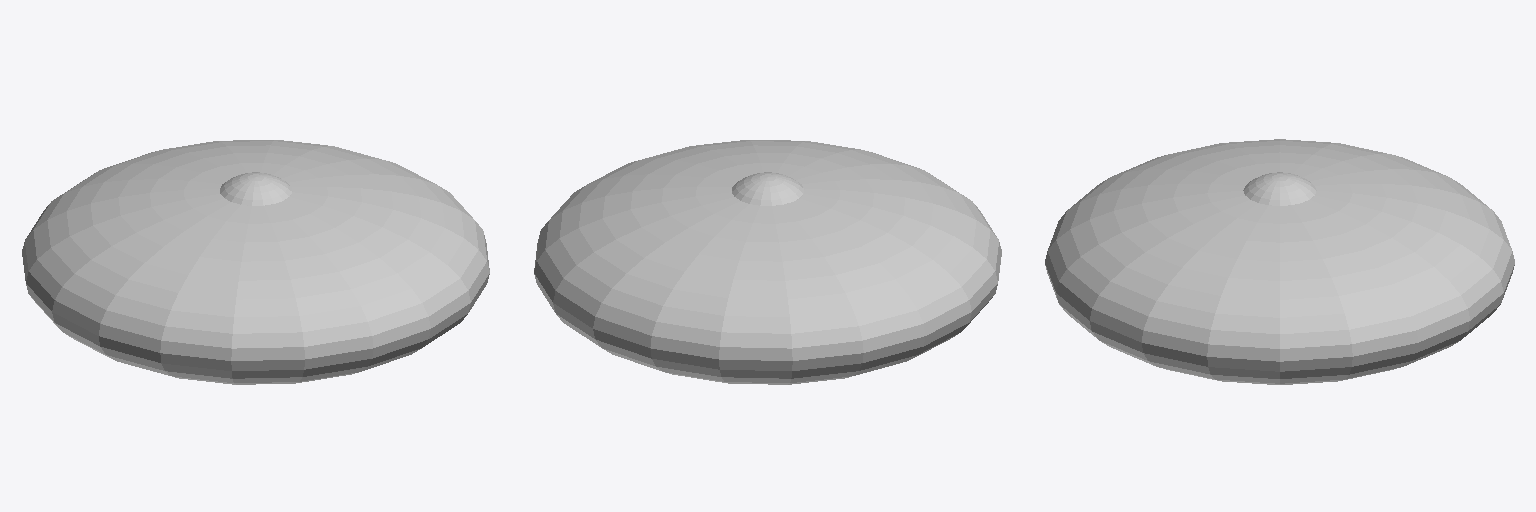
File: speakerInHead.obj
3 views of the same model, side by side, from view 1: azimuth 30°, elevation 25°; view 2: azimuth 150°, elevation 25°; view 3: azimuth 270°, elevation 25° (orthographic).
Visible parts, largest first — view 1: speakerMainMesh, speakerMainMesh speakerNubbin; view 2: speakerMainMesh, speakerMainMesh speakerNubbin; view 3: speakerMainMesh, speakerMainMesh speakerNubbin.
Boxes of the visible parts, <box> form: speakerMainMesh: <box>22,140,489,384</box>; speakerMainMesh speakerNubbin: <box>220,172,291,205</box>; speakerMainMesh: <box>534,140,1001,384</box>; speakerMainMesh speakerNubbin: <box>732,172,803,205</box>; speakerMainMesh: <box>1045,139,1514,384</box>; speakerMainMesh speakerNubbin: <box>1243,172,1316,205</box>.
Bounding box in the file's own units: 12.45 × 4.6 × 12.45.